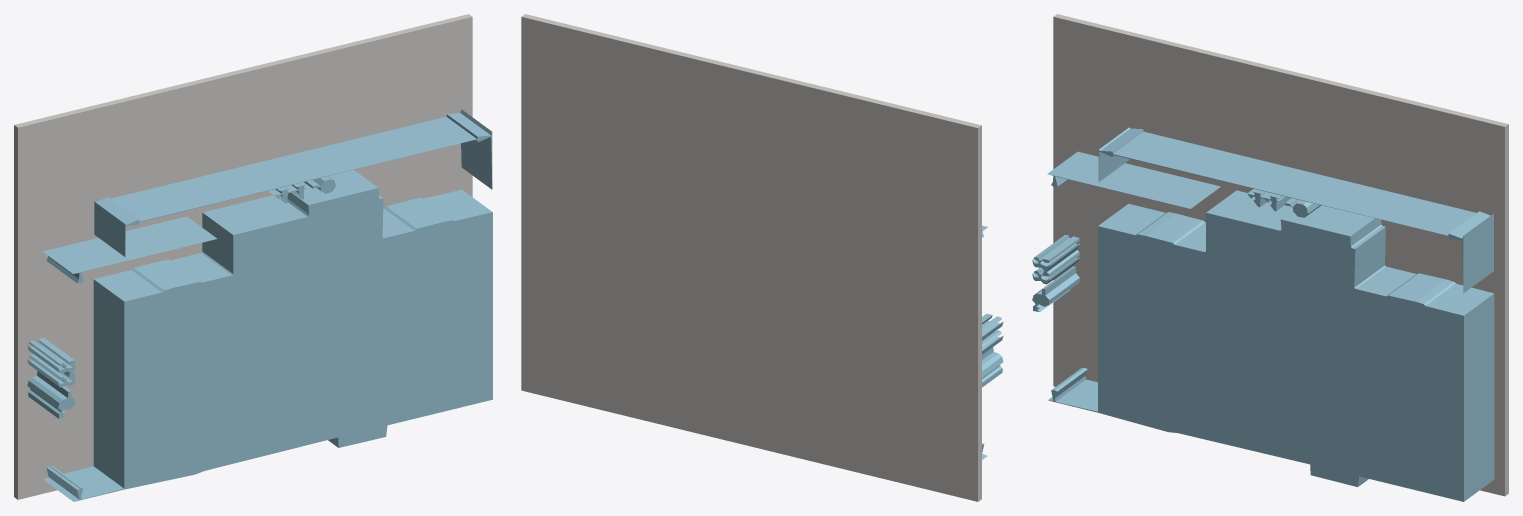
3 renders of one model, left to right at view 1: azimuth 30°, elevation 25°; view 2: azimuth 150°, elevation 25°; view 3: azimuth 330°, elevation 25°, orthographic.
Parts seen in each view (by area): view 1: world; view 2: world; view 3: world.
Part boxes in pixels (<box>): world: <box>14,14,492,501</box>; world: <box>521,14,1003,501</box>; world: <box>1032,14,1508,501</box>.
Size of the model in its own units: 10.23 by 8 by 1.35.
